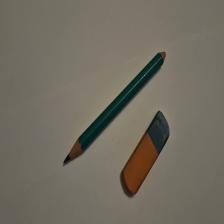eraser: (121, 111, 171, 196)
pencil: (64, 52, 167, 165)
